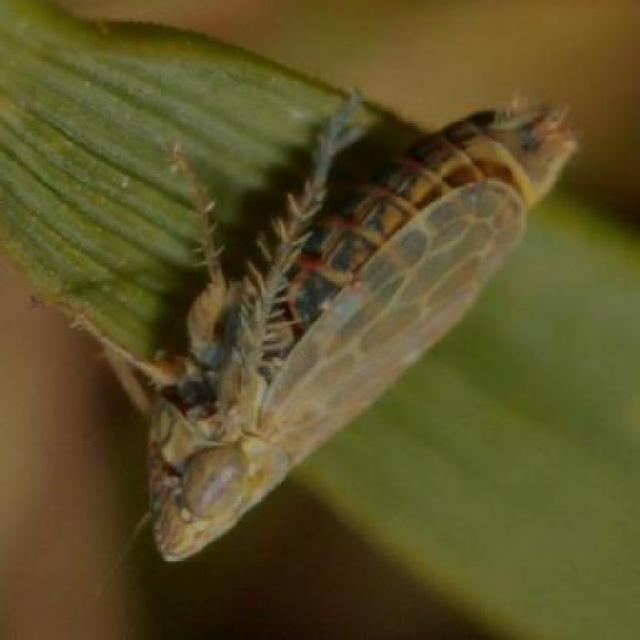green-leafhopper: (126, 88, 566, 563)
